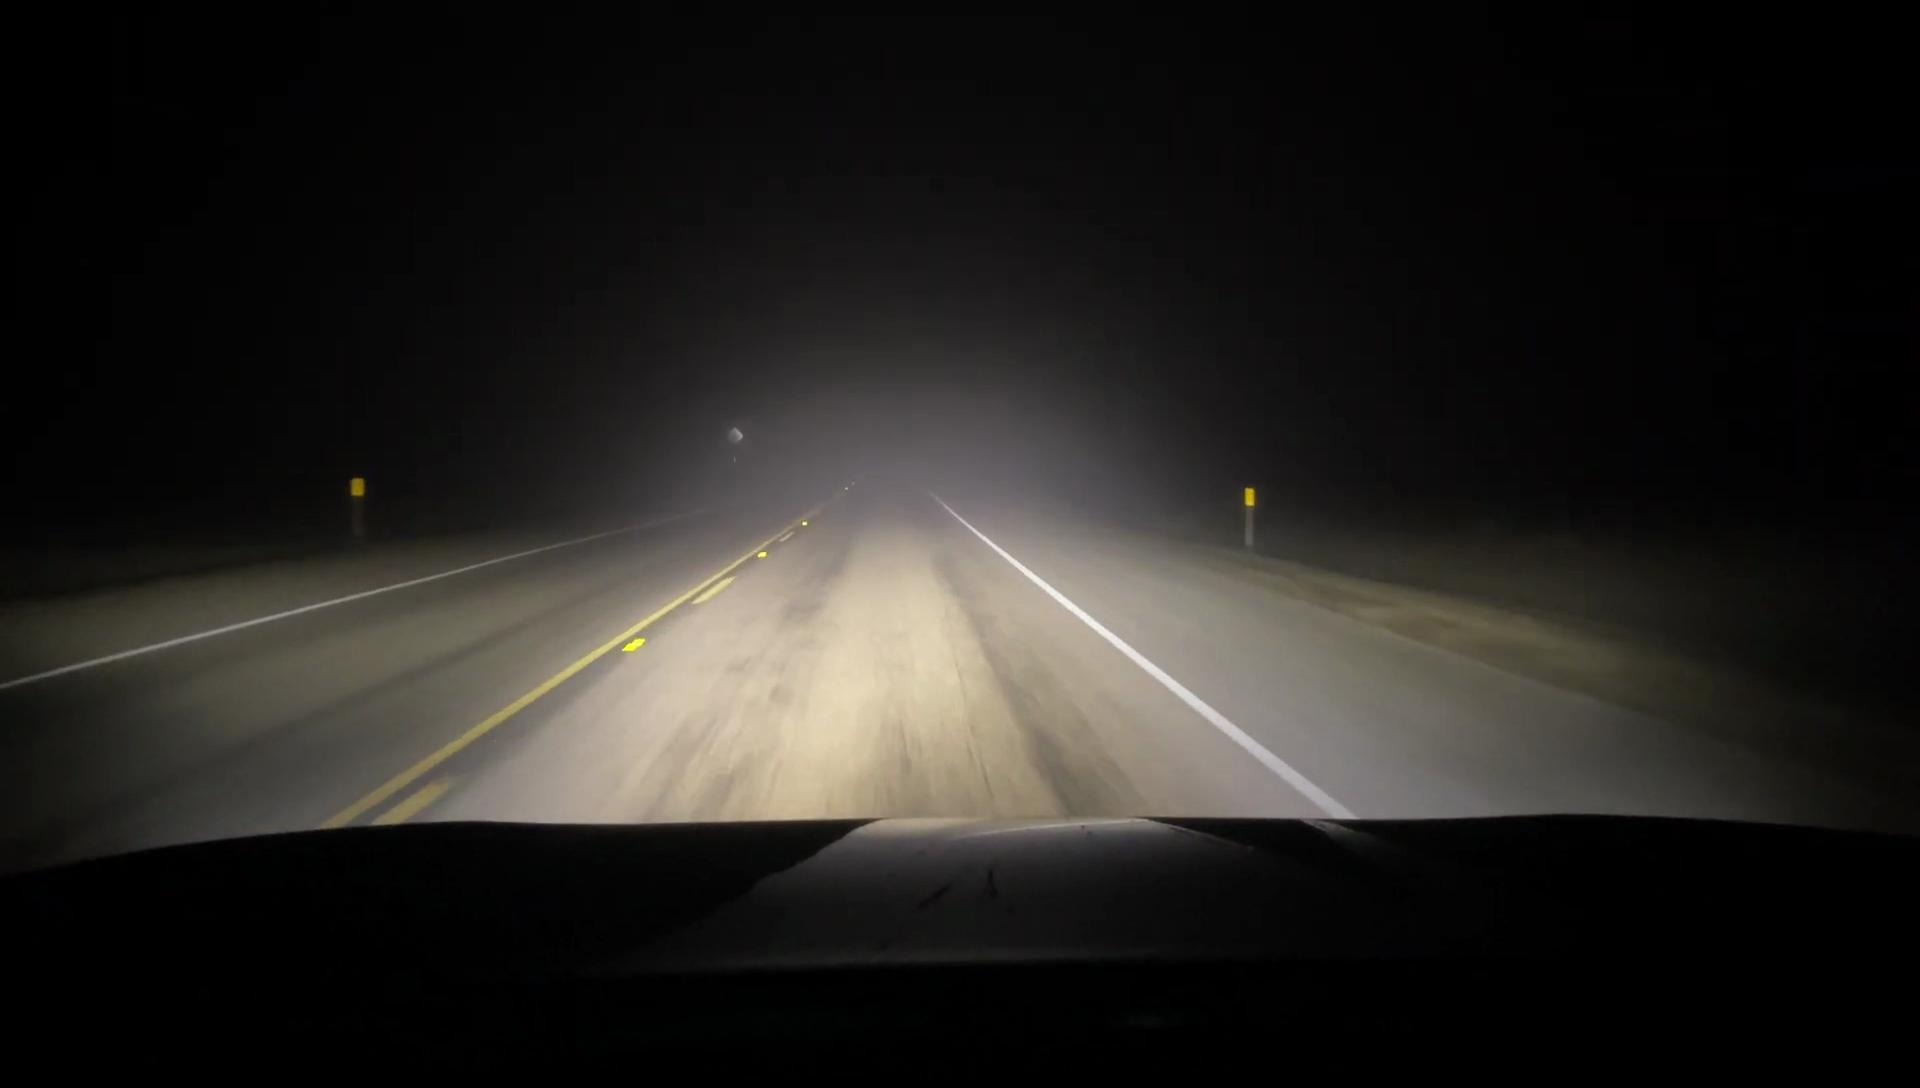road-lanes: (443, 488, 1319, 808)
